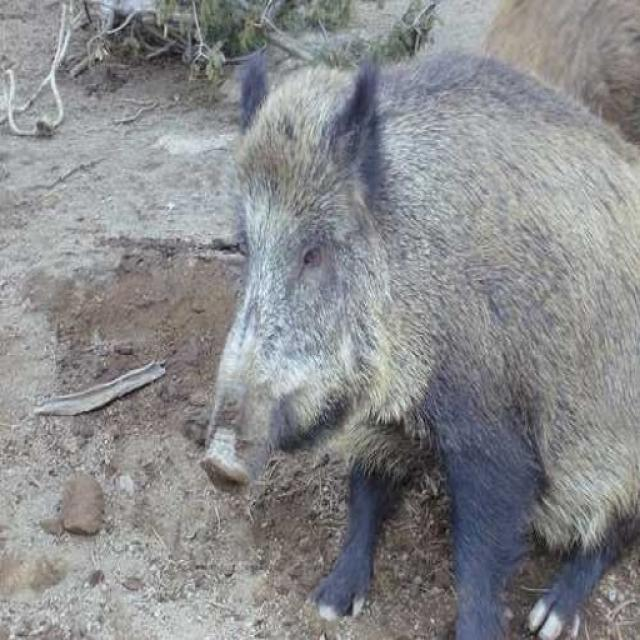pig: (159, 5, 640, 639)
